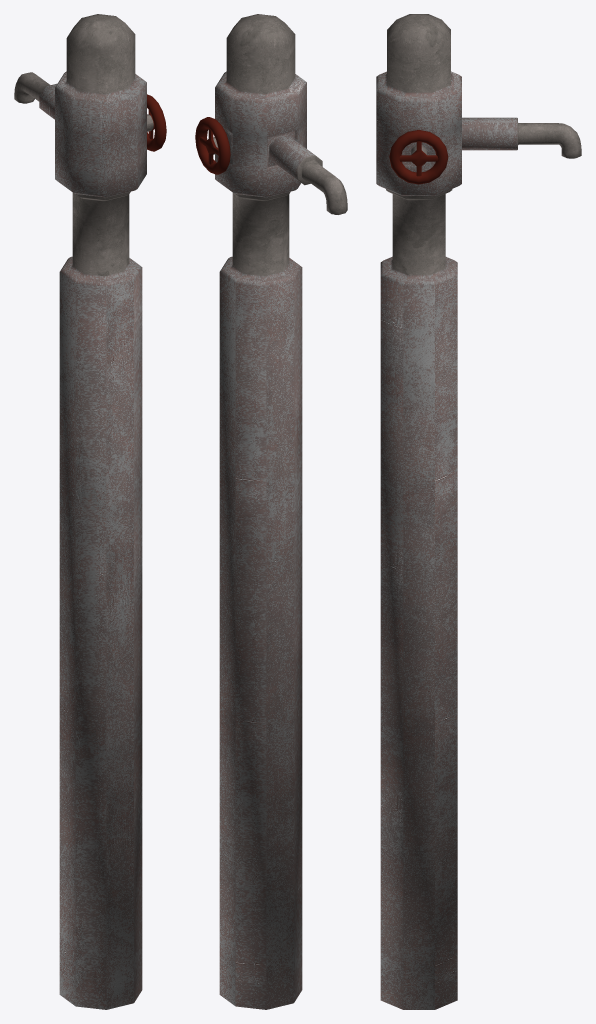
The model's file is kranik.fbx.
3 views of the same model, side by side, from view 1: azimuth 30°, elevation 25°; view 2: azimuth 210°, elevation 25°; view 3: azimuth 270°, elevation 25° (orthographic).
Parts seen in each view (by area): view 1: Torus; view 2: Torus; view 3: Torus.
Part boxes in pixels (x1,y1,x2,y2): Torus: (14, 14, 166, 1009); Torus: (195, 14, 347, 1009); Torus: (376, 14, 581, 1009).
Size of the model in its own units: 34.67 by 358 by 68.38.
Materials: 3 (3 with a texture image).
